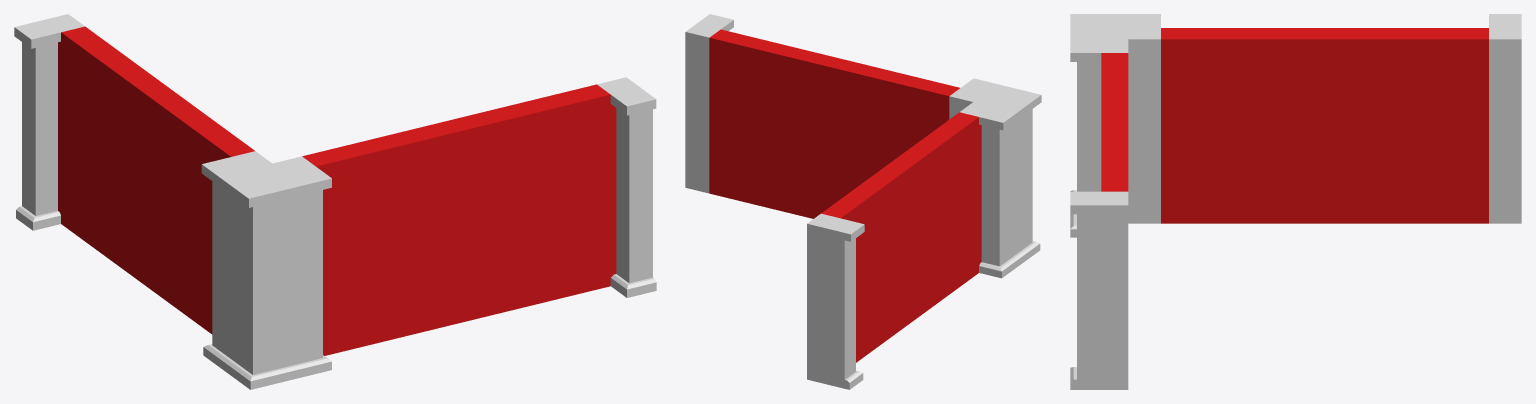
Rendered from Wall corner out.fbx.
3 views of the same model, side by side, from view 1: azimuth 30°, elevation 25°; view 2: azimuth 150°, elevation 25°; view 3: azimuth 270°, elevation 25° (orthographic). The views are drawn at different scales.
Parts seen in each view (by area): view 1: Wall Corner; view 2: Wall Corner; view 3: Wall Corner.
Part boxes in pixels (x1=…): Wall Corner: x1=14, y1=14, x2=656, y2=389; Wall Corner: x1=685, y1=14, x2=1041, y2=389; Wall Corner: x1=1070, y1=14, x2=1521, y2=389.
Bounding box in the file's own units: 635 × 286 × 633.
